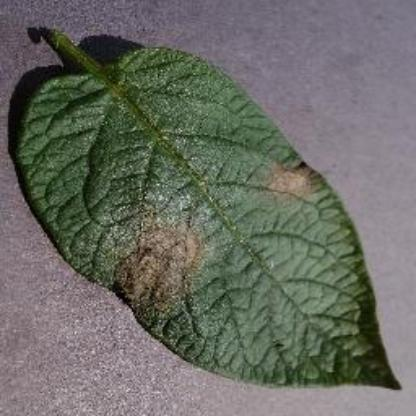Late-Blight: (12, 15, 404, 393)
